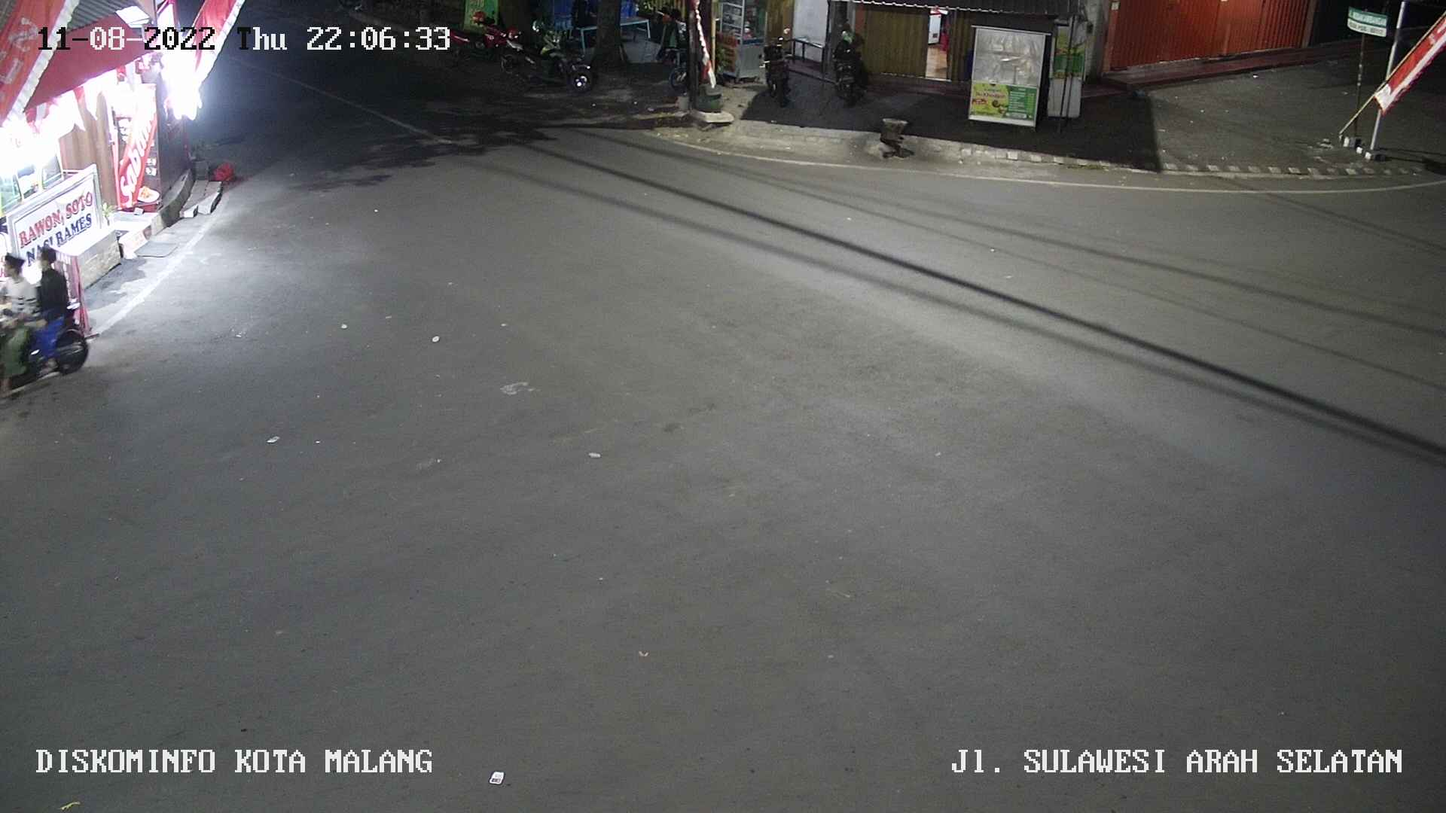without_helmet: (0, 248, 117, 399)
